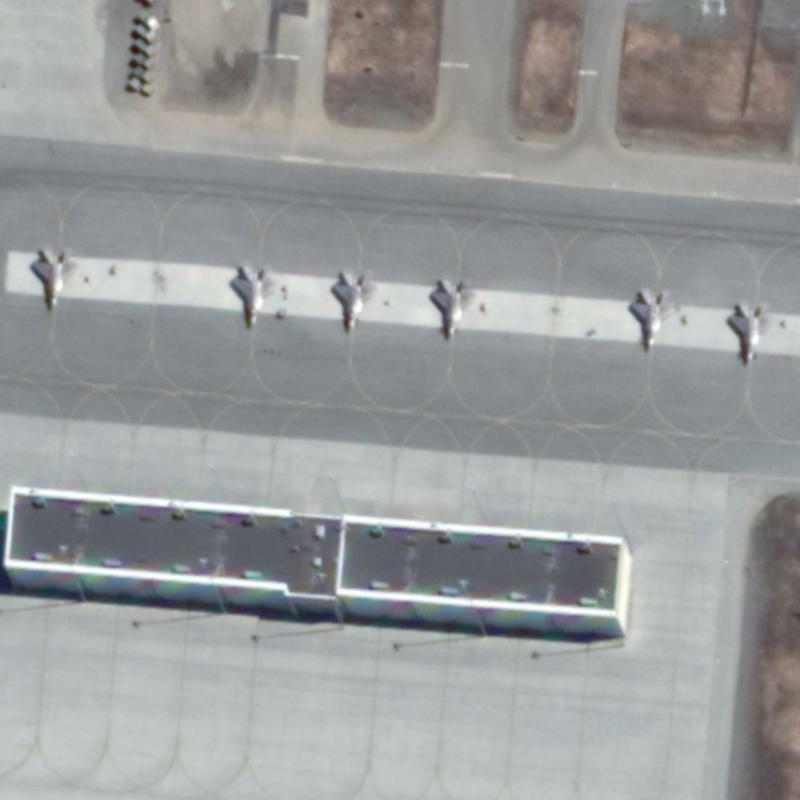A15: (24, 239, 84, 323), (721, 293, 780, 374), (226, 258, 284, 336), (422, 267, 481, 343), (622, 283, 682, 356), (324, 266, 382, 335)
